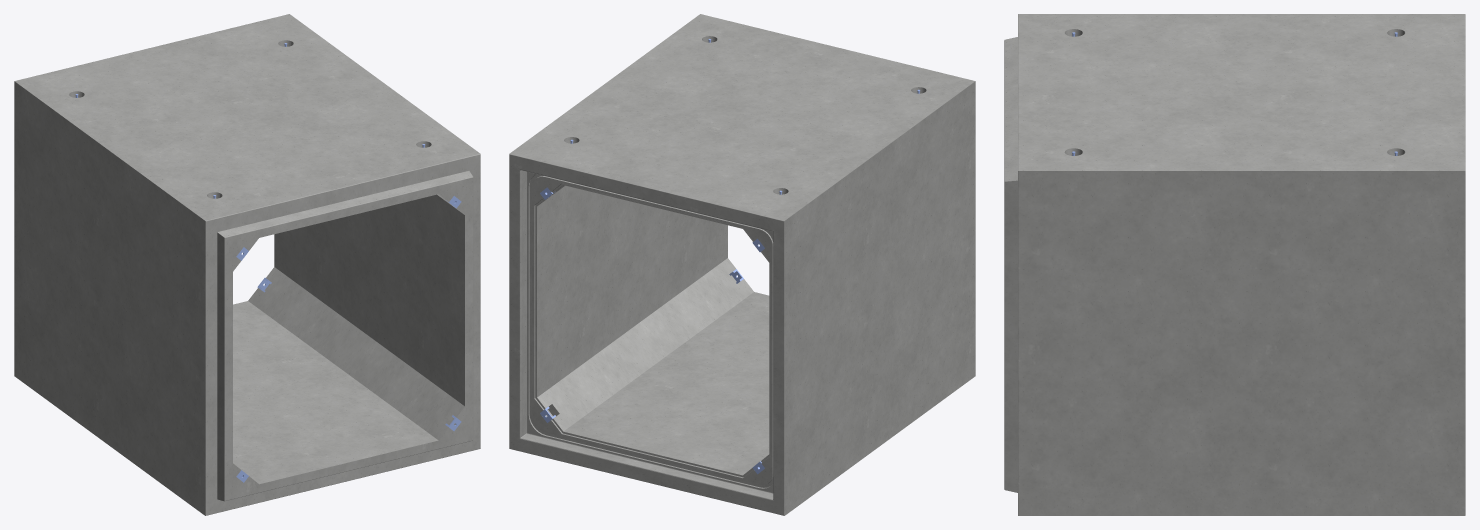
The model's file is GLB012.glb.
3 views of the same model, side by side, from view 1: azimuth 30°, elevation 25°; view 2: azimuth 150°, elevation 25°; view 3: azimuth 270°, elevation 25° (orthographic). The views are drawn at different scales.
Visible parts, largest first — view 1: Rectangle001; view 2: Rectangle001; view 3: Rectangle001.
Boxes of the visible parts, box(x1,y1,x2,y2) form: Rectangle001: box(14, 14, 480, 515); Rectangle001: box(509, 14, 975, 515); Rectangle001: box(1004, 14, 1465, 515).
Bounding box in the file's own units: 42.16 × 43.18 × 52.32.
2 materials, 1 textured.
